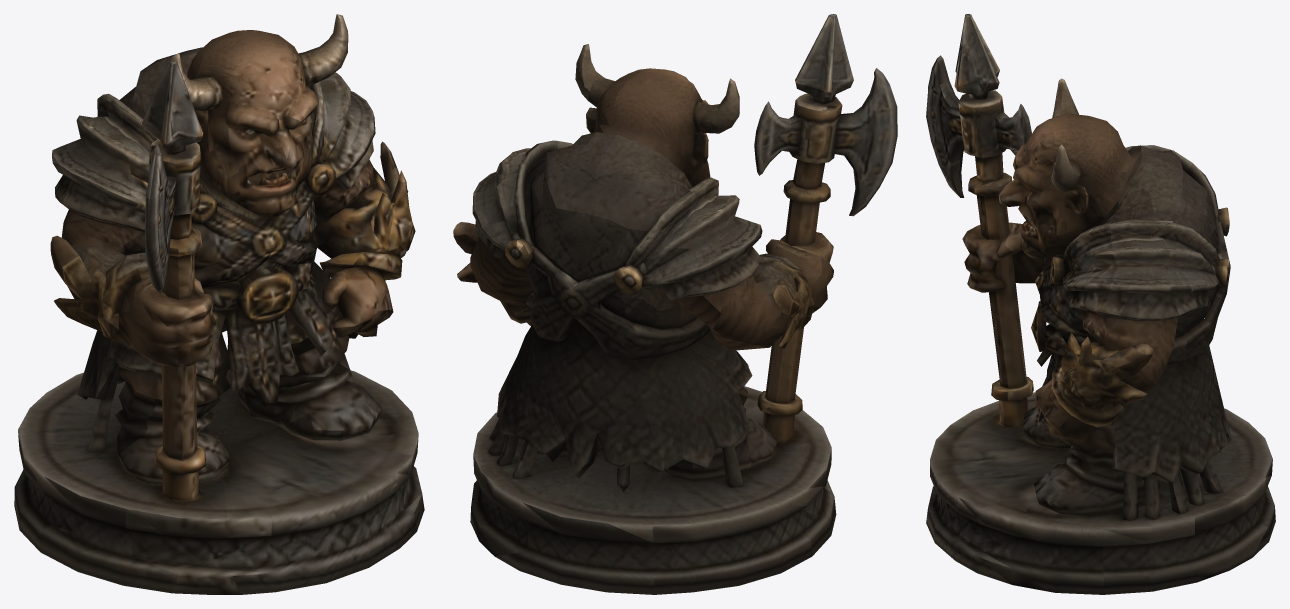
The model's file is orc_chief.glb.
The picture shows the model from 3 angles, left to right: view 1: azimuth 30°, elevation 25°; view 2: azimuth 150°, elevation 25°; view 3: azimuth 270°, elevation 25°; orthographic projection. The views are drawn at different scales.
Visible parts, largest first — view 1: mesh_node; view 2: mesh_node; view 3: mesh_node.
Boxes of the visible parts, left/top/right/bottom form: mesh_node: left=14, top=14, right=424, bottom=594; mesh_node: left=453, top=14, right=897, bottom=594; mesh_node: left=926, top=14, right=1275, bottom=594.
Bounding box in the file's own units: 0.7344 × 1 × 0.6972.
1 material, 1 textured.
